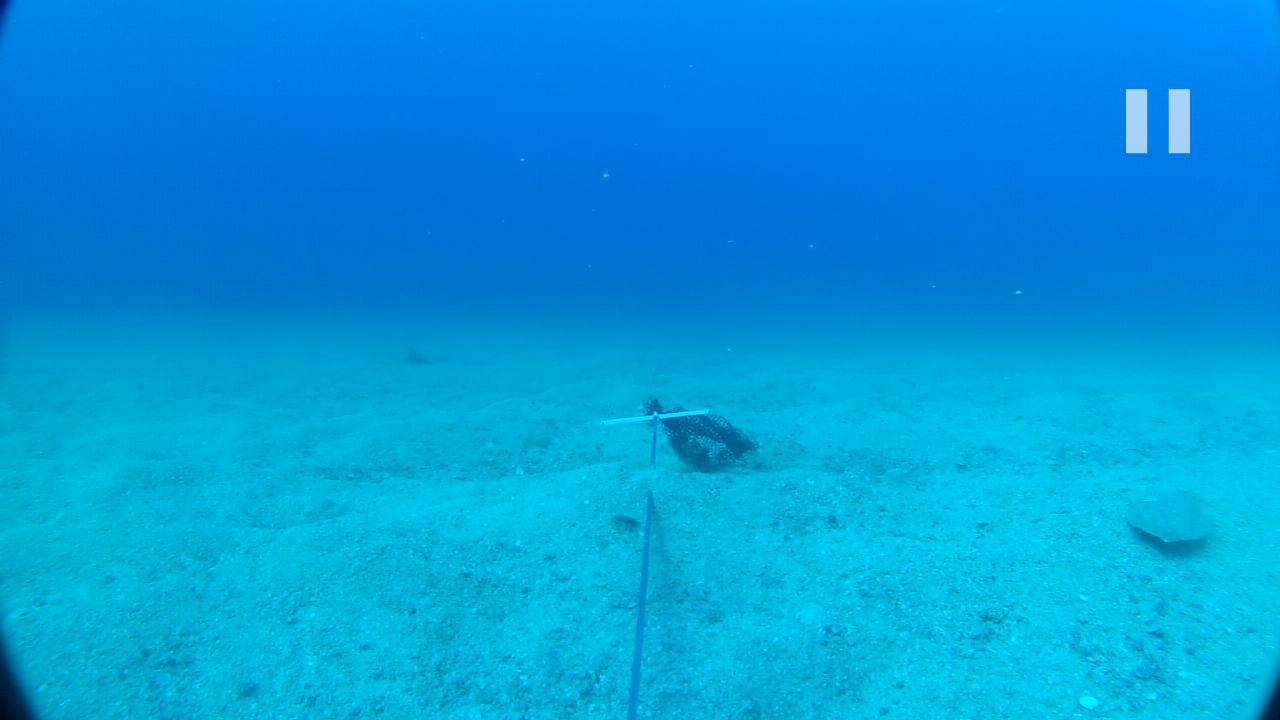bothus: (1122, 481, 1214, 556)
